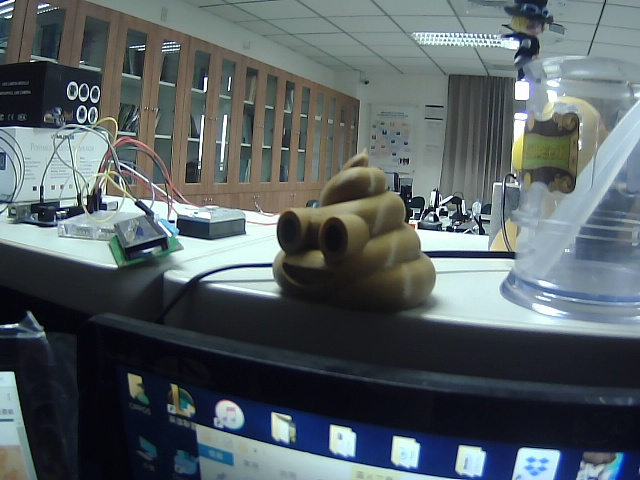shit: (264, 143, 445, 328)
